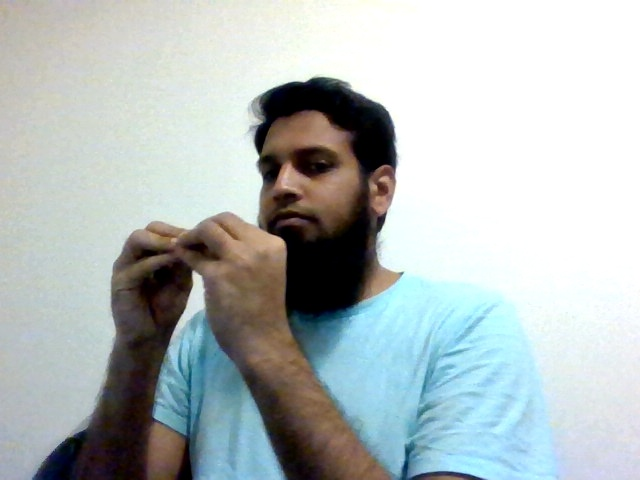more: (109, 210, 289, 360)
